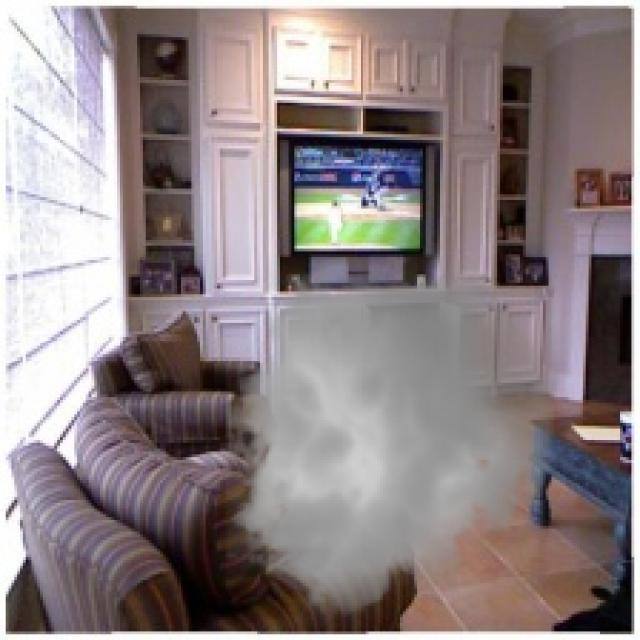Smoke: (211, 257, 566, 629)
